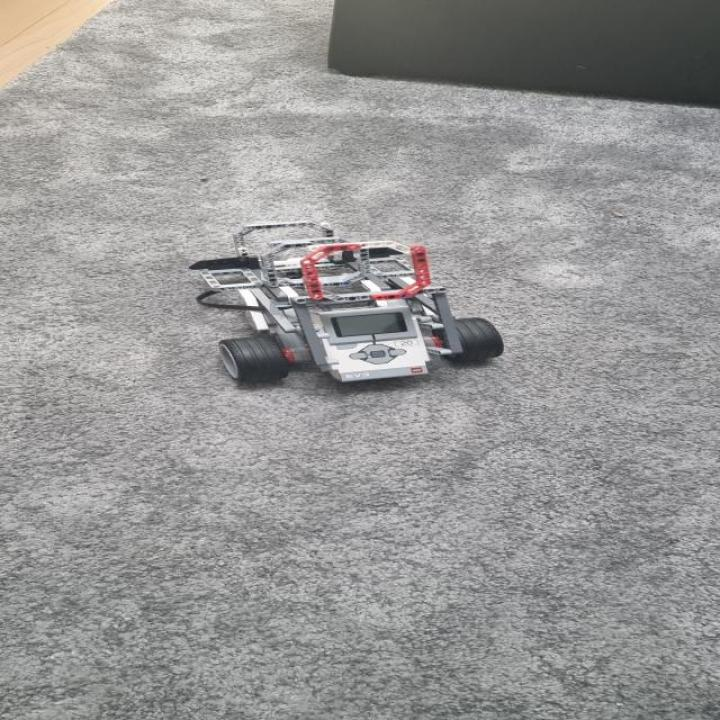robot: (186, 219, 506, 384)
